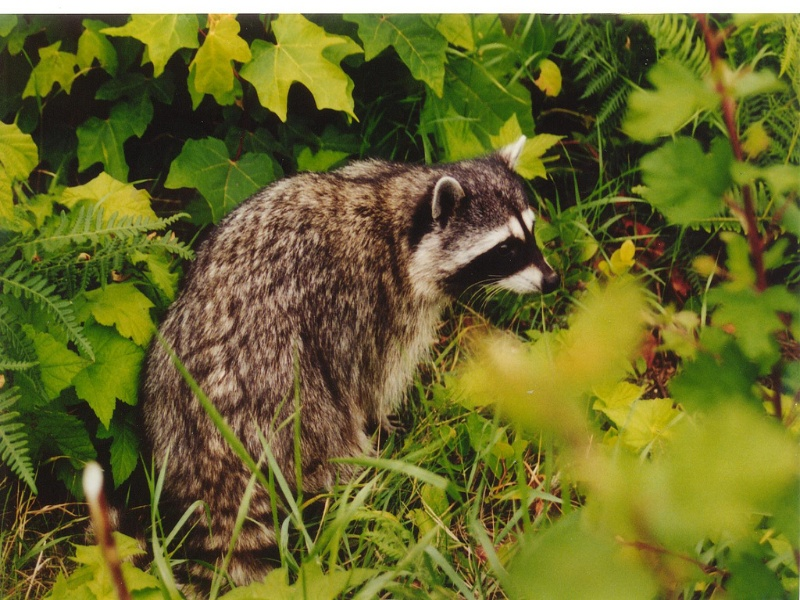raccoon: (137, 133, 564, 581)
